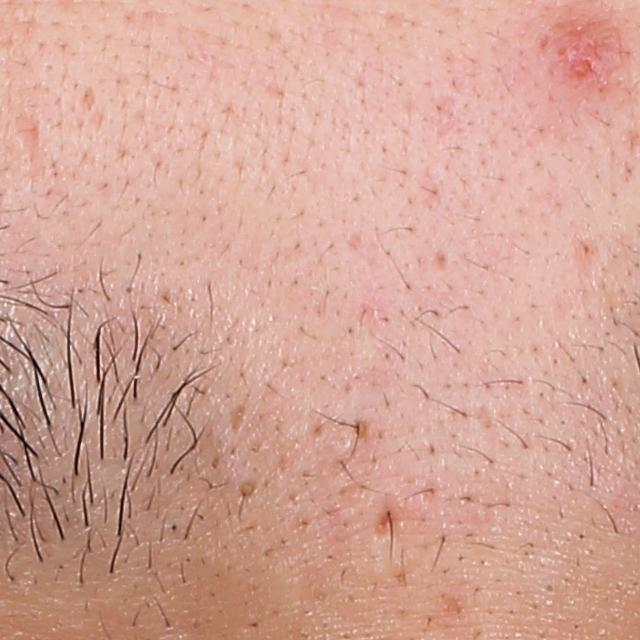atrophic_scar: (7, 107, 49, 170), (373, 488, 411, 544), (224, 402, 255, 441)
comedo: (235, 478, 261, 502)
papule: (550, 16, 625, 83)
